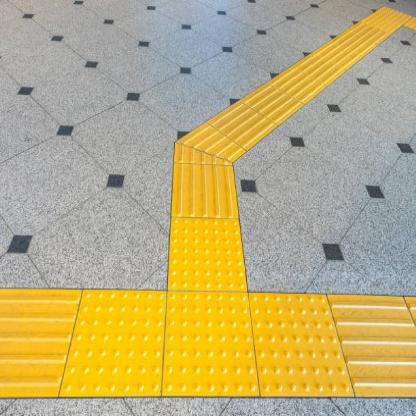podotacti: (0, 5, 415, 399)
